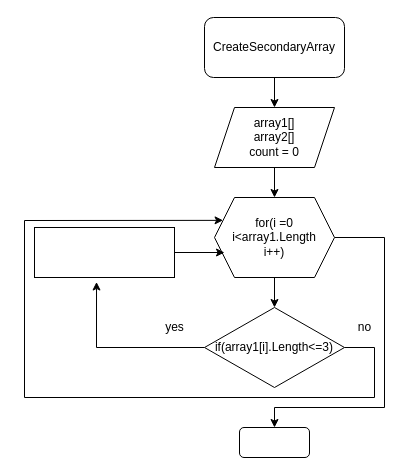
Some shapes in this 410 by 475 pixel diagram are drawn without their labels. Here are the shapes that lost their labels. From the top down, the centre of each, then its label:
At (x=104, y=252): "array2[count] = array1[i] count++".
At (x=274, y=442): "END".
